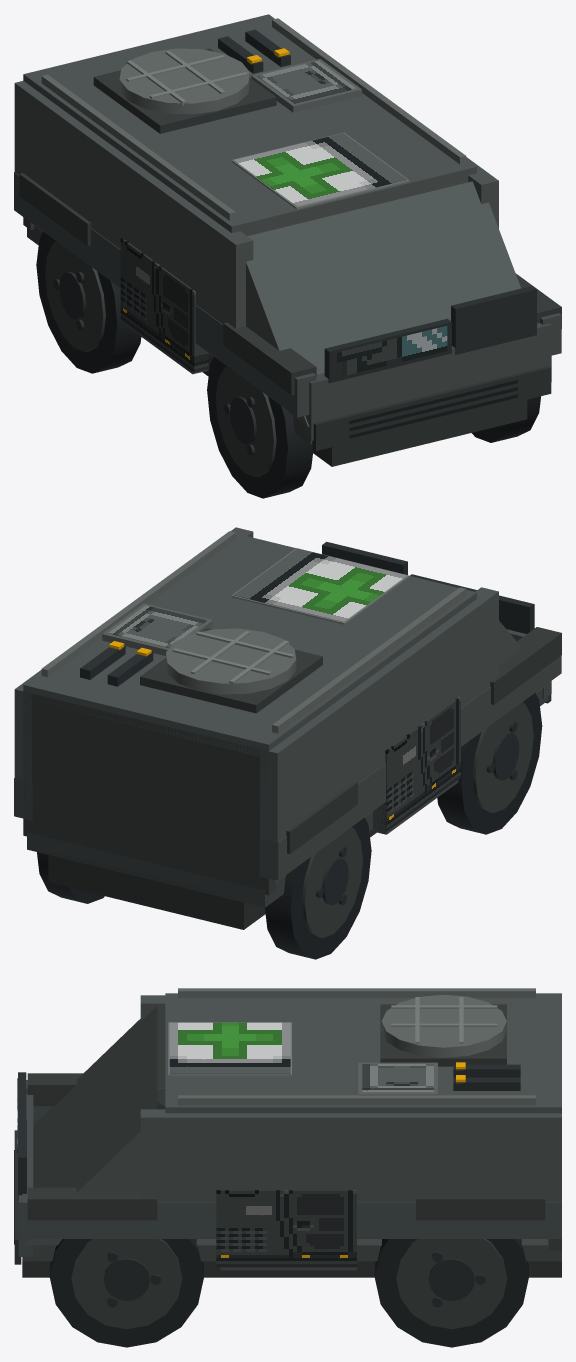
The model's file is CMU3DAU14PropAPCMedicalVehicleFinalCloud.glb.
The picture shows the model from 3 angles, top to bottom: view 1: azimuth 30°, elevation 25°; view 2: azimuth 150°, elevation 25°; view 3: azimuth 270°, elevation 25°; orthographic projection. The views are drawn at different scales.
Parts seen in each view (by area): view 1: sloped front armor nose, raised cargo roof, upper armored hull side -1, driver forward lower plate, original green medical roof cross, source service door and vent -1, octagonal rear roof hatch, lower armor waist -1, front radiator surround, roof edge rail (×2), wheel arch upper shield -1 (×2), tire 0 -1 (+18 smaller); view 2: rear armored bulkhead, raised cargo roof, upper armored hull side -1, original green medical roof cross, source service door and vent -1, armored lower chassis, lower armor waist -1, octagonal rear roof hatch, roof edge rail (×2), armored floor, wheel arch upper shield -1 (×2), tire 1 -1 (+17 smaller); view 3: upper armored hull side 1, raised cargo roof, sloped front armor nose, source service door and vent 1, lower armor waist 1, roof edge rail (×2), wheel arch upper shield 1 (×2), metal wheel rim 1 1, metal wheel rim 0 1, original green medical roof cross, tire 1 1, tire 0 1 (+16 smaller).
Boxes of the visible parts, x1,y1,x2,y2 form: sloped front armor nose: [246, 181, 521, 426]; raised cargo roof: [23, 14, 476, 235]; upper armored hull side -1: [14, 81, 253, 328]; driver forward lower plate: [303, 323, 551, 440]; original green medical roof cross: [233, 133, 407, 206]; source service door and vent -1: [120, 238, 208, 372]; octagonal rear roof hatch: [119, 48, 249, 114]; lower armor waist -1: [14, 172, 316, 417]; front radiator surround: [312, 366, 551, 450]; roof edge rail (×2): [41, 18, 466, 220]; wheel arch upper shield -1 (×2): [19, 173, 316, 395]; tire 0 -1: [207, 357, 313, 498]; rear armored bulkhead: [23, 691, 275, 895]; raised cargo roof: [23, 533, 476, 758]; upper armored hull side -1: [260, 587, 498, 843]; original green medical roof cross: [233, 548, 407, 622]; source service door and vent -1: [374, 696, 460, 831]; armored lower chassis: [48, 831, 376, 929]; lower armor waist -1: [259, 655, 561, 880]; octagonal rear roof hatch: [166, 628, 296, 694]; roof edge rail (×2): [41, 531, 466, 733]; armored floor: [27, 689, 548, 907]; wheel arch upper shield -1 (×2): [286, 627, 561, 853]; tire 1 -1: [265, 817, 371, 959]; upper armored hull side 1: [140, 1109, 561, 1202]; raised cargo roof: [165, 993, 561, 1113]; sloped front armor nose: [22, 1006, 157, 1245]; source service door and vent 1: [216, 1190, 356, 1267]; lower armor waist 1: [22, 1194, 561, 1238]; roof edge rail (×2): [178, 988, 535, 1105]; wheel arch upper shield 1 (×2): [27, 1187, 545, 1220]; metal wheel rim 1 1: [396, 1239, 507, 1329]; metal wheel rim 0 1: [71, 1239, 182, 1329]; original green medical roof cross: [169, 1022, 290, 1074]; tire 1 1: [374, 1239, 528, 1347]; tire 0 1: [49, 1239, 203, 1347].
Bounding box in the file's own units: 2.16 × 2.07 × 3.98.
18 materials, 4 textured.
